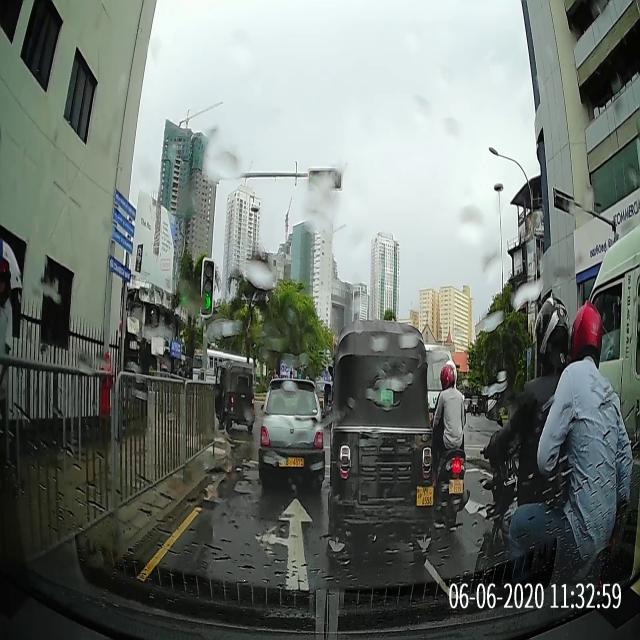forward_lft: (135, 483, 332, 588)
